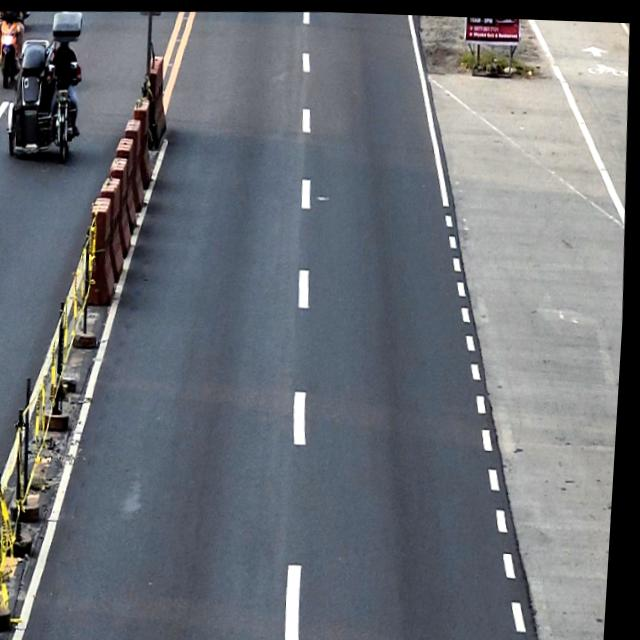Motorcycle: (0, 10, 25, 90)
Tricycle: (2, 9, 88, 166)
